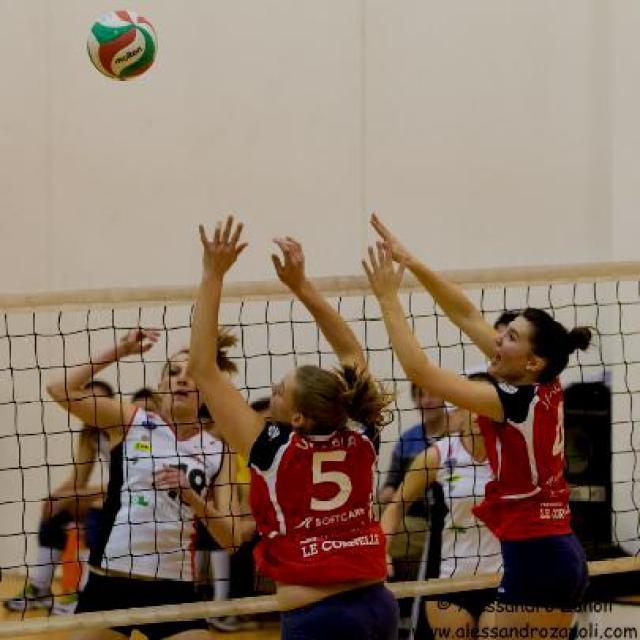volleyball: (86, 8, 158, 78)
